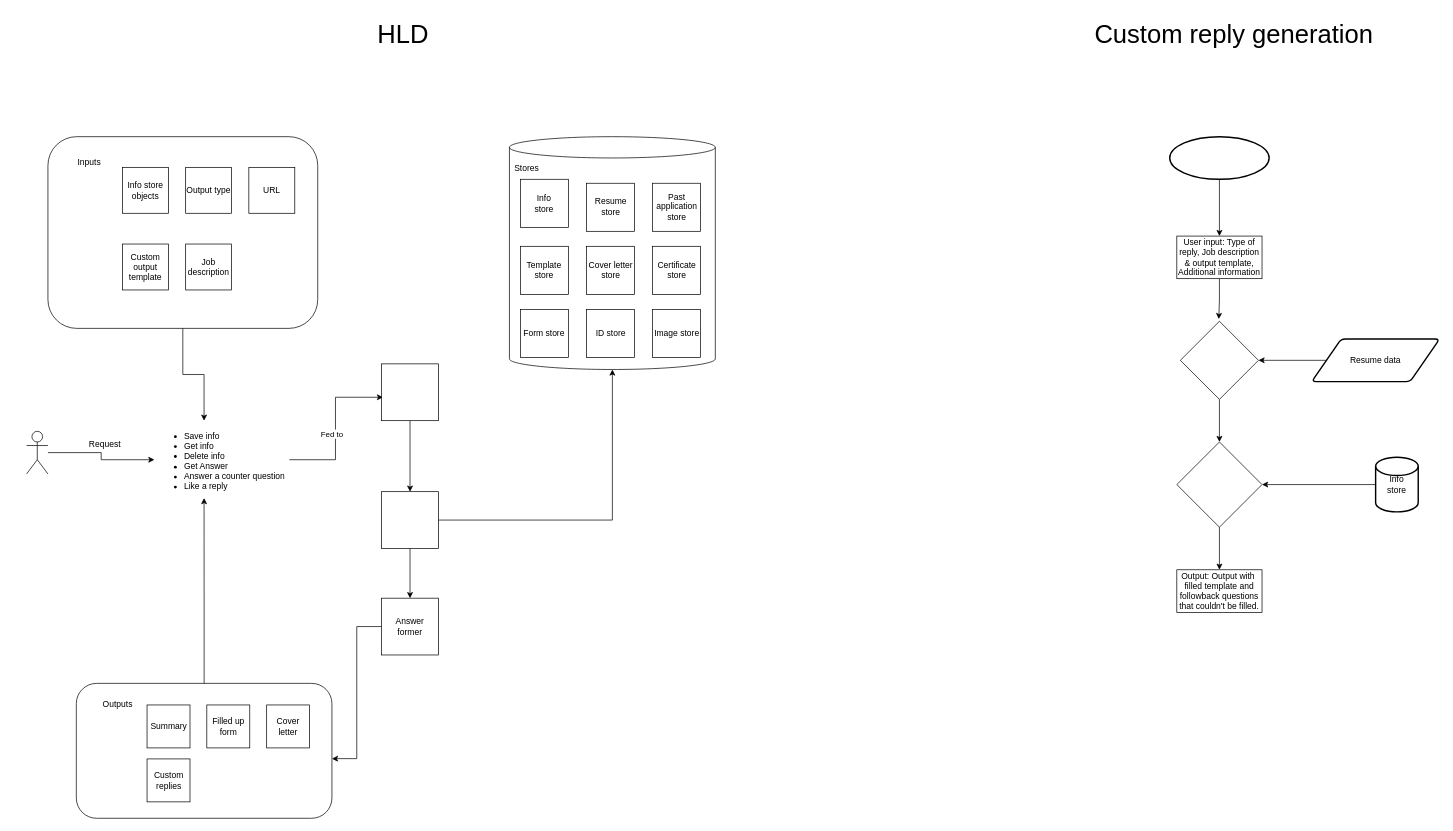
Image size: 1453x831. Some labels were removed from this diagram. Here are the shapes that lost their labels. From the top down, the centre of each, then its label:
the point at 1219,158: Start
the point at 1219,360: Form followback questions
the point at 409,392: Query analyser
the point at 37,452: Job applicant
the point at 1219,484: Search answers followback questions
the point at 409,519: Info retriever
